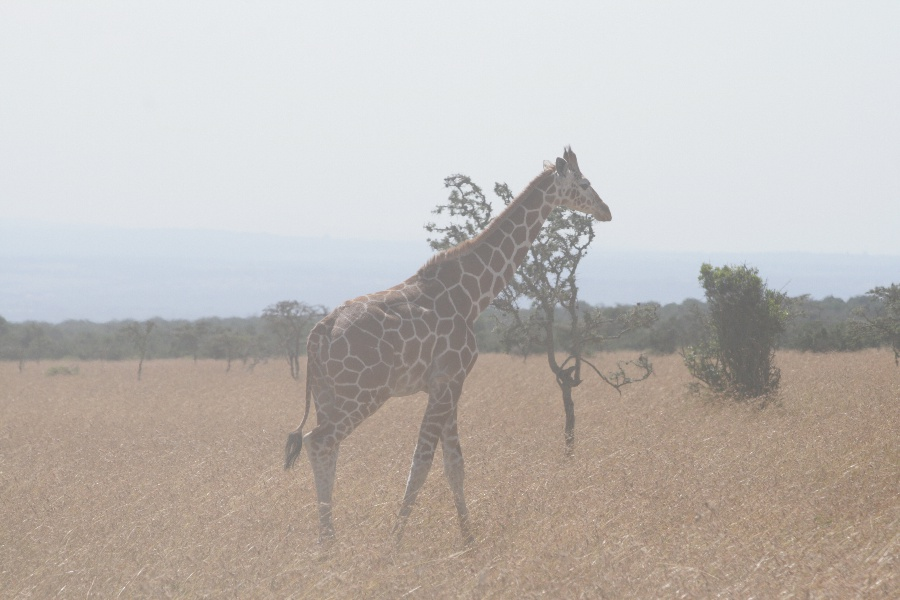giraffe: (268, 135, 643, 570)
